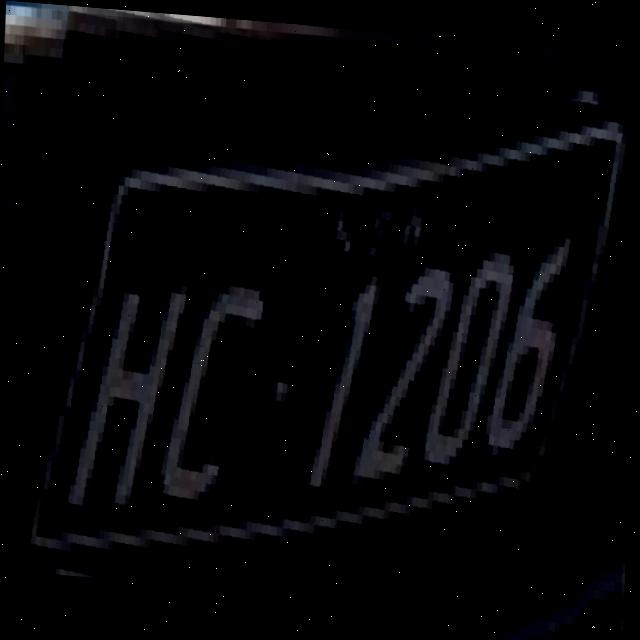LicensePlate: (3, 5, 640, 640)
